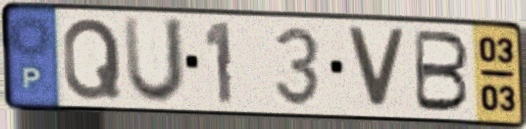1: (202, 19, 237, 109)
3: (268, 24, 324, 109)
B: (412, 27, 472, 115)
Q: (60, 15, 124, 103)
U: (120, 13, 188, 108)
V: (342, 24, 410, 113)
